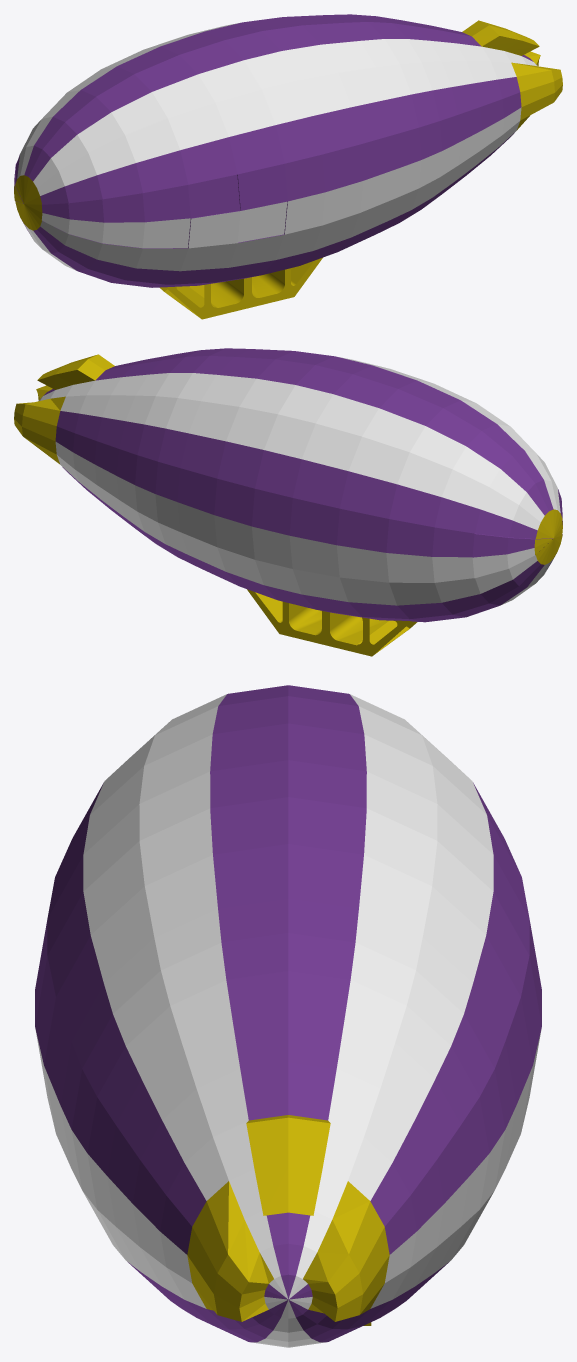
Rendered from zeppieeeeee.fbx.
The picture shows the model from 3 angles, top to bottom: view 1: azimuth 30°, elevation 25°; view 2: azimuth 150°, elevation 25°; view 3: azimuth 270°, elevation 25°; orthographic projection. The views are drawn at different scales.
Parts seen in each view (by area): view 1: pSphere1, cockpitzepplinjowie1:node_id3; view 2: pSphere1, cockpitzepplinjowie1:node_id3; view 3: pSphere1.
Boxes of the visible parts, x1=… form: pSphere1: x1=14, y1=14, x2=562, y2=287; cockpitzepplinjowie1:node_id3: x1=160, y1=257, x2=322, y2=319; pSphere1: x1=14, y1=348, x2=562, y2=622; cockpitzepplinjowie1:node_id3: x1=247, y1=589, x2=417, y2=656; pSphere1: x1=35, y1=685, x2=541, y2=1347.
Size of the model in its own units: 16.34 by 7.62 by 6.81.
